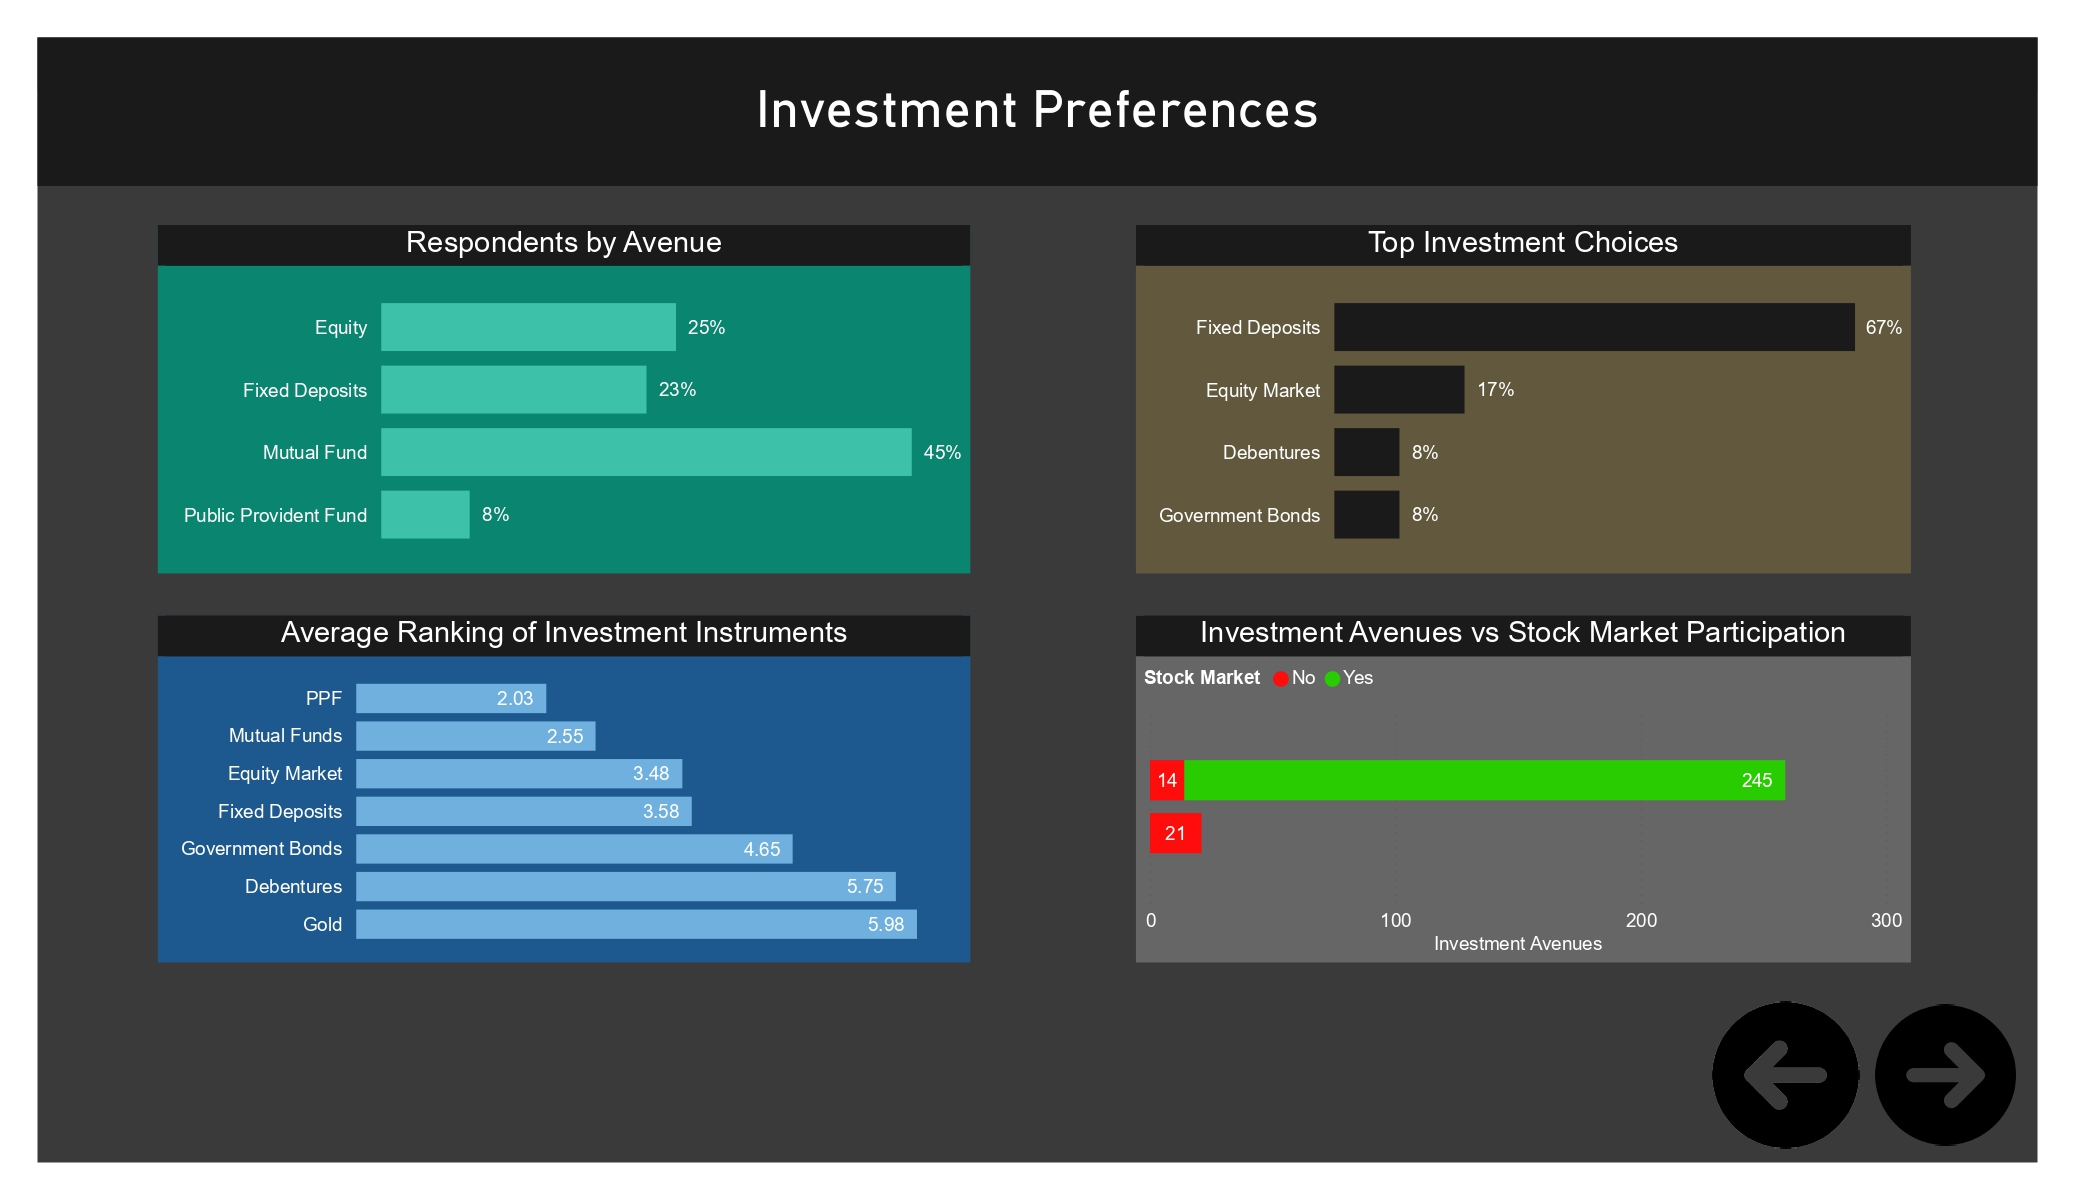

Layout of this report page (visuals, bound fields, positions):
{"tool":"powerbi","page":{"name":"Investment Preferences","canvas":[1280,720],"ordinal":1},"visuals":[{"type":"shape","box":[0,0,1280,95],"z":0},{"type":"textbox","title":"Finance Data Analyst","box":[367.4,20.5,545.2,56.4],"z":1000},{"type":"clusteredBarChart","title":"Respondents by Avenue","fields":{"Category":["Finance_data.Avenue"],"Y":["CountNonNull(Finance_data.RespondentID)"]},"box":[76.5,120.5,520.2,222.5],"z":2000},{"type":"barChart","title":"Average Ranking of Investment Instruments","fields":{"Category":["Finance_data.Instrument"],"Y":["Avg(Finance_data.RankValue)"]},"box":[76.5,369.9,520.2,222.5],"z":3000},{"type":"barChart","title":"Investment Avenues vs Stock Market Participation","fields":{"Category":["Finance_data.Investment_Avenues"],"Series":["Finance_data.Stock_Market"],"Y":["CountNonNull(Finance_data.Investment_Avenues)"]},"box":[703,369.9,496.1,222.5],"z":4000},{"type":"barChart","title":"Top Investment Choices","fields":{"Category":["Finance_data.Instrument"],"Y":["Finance_data.TopChoiceCount"]},"box":[703,120.5,496.1,222.5],"z":5000},{"type":"image","box":[1170.9,606.6,100.6,113.4],"z":6000},{"type":"image","box":[1067.4,606.6,103.5,113.4],"z":7000}]}

Visuals, with their boxes on the page's 1280x720 design canvas (x1, y1, x2, y2). These are canvas units, not pixel positions in the 2075x1200 screenshot, which may show the page scaled, cropped or inside an application window:
shape: Rect(0, 0, 1280, 95)
"Finance Data Analyst" textbox: Rect(367, 20, 913, 77)
"Respondents by Avenue" clusteredBarChart: Rect(76, 120, 597, 343)
"Average Ranking of Investment Instruments" barChart: Rect(76, 370, 597, 592)
"Investment Avenues vs Stock Market Participation" barChart: Rect(703, 370, 1199, 592)
"Top Investment Choices" barChart: Rect(703, 120, 1199, 343)
image: Rect(1171, 607, 1272, 720)
image: Rect(1067, 607, 1171, 720)
